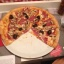olives: (9, 31, 20, 41), (20, 11, 29, 20), (46, 29, 52, 36), (35, 14, 41, 20), (7, 14, 14, 19), (32, 21, 36, 29)
pizza: (1, 8, 58, 48)
